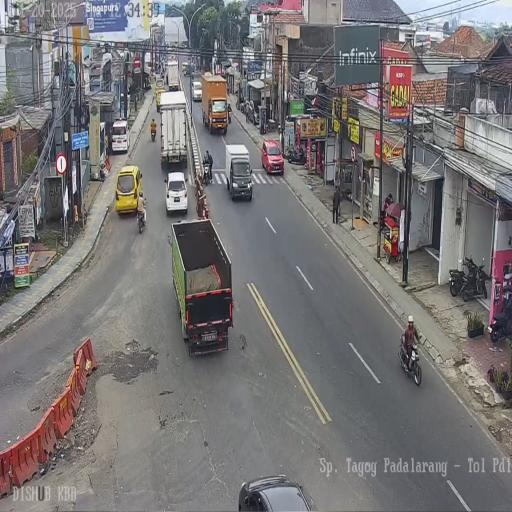3: (168, 214, 234, 352), (159, 90, 188, 171), (197, 71, 229, 136), (226, 144, 252, 201), (166, 59, 180, 92), (144, 52, 151, 75), (183, 62, 191, 76)
car: (237, 474, 312, 511), (116, 164, 143, 215), (164, 170, 188, 216), (261, 139, 284, 177), (110, 118, 129, 155), (154, 80, 166, 110), (192, 79, 202, 102)
truck: (398, 332, 422, 385), (461, 255, 488, 302), (488, 300, 511, 342), (448, 267, 466, 296), (285, 143, 306, 166), (240, 98, 246, 114), (150, 126, 156, 142), (227, 107, 232, 123)
